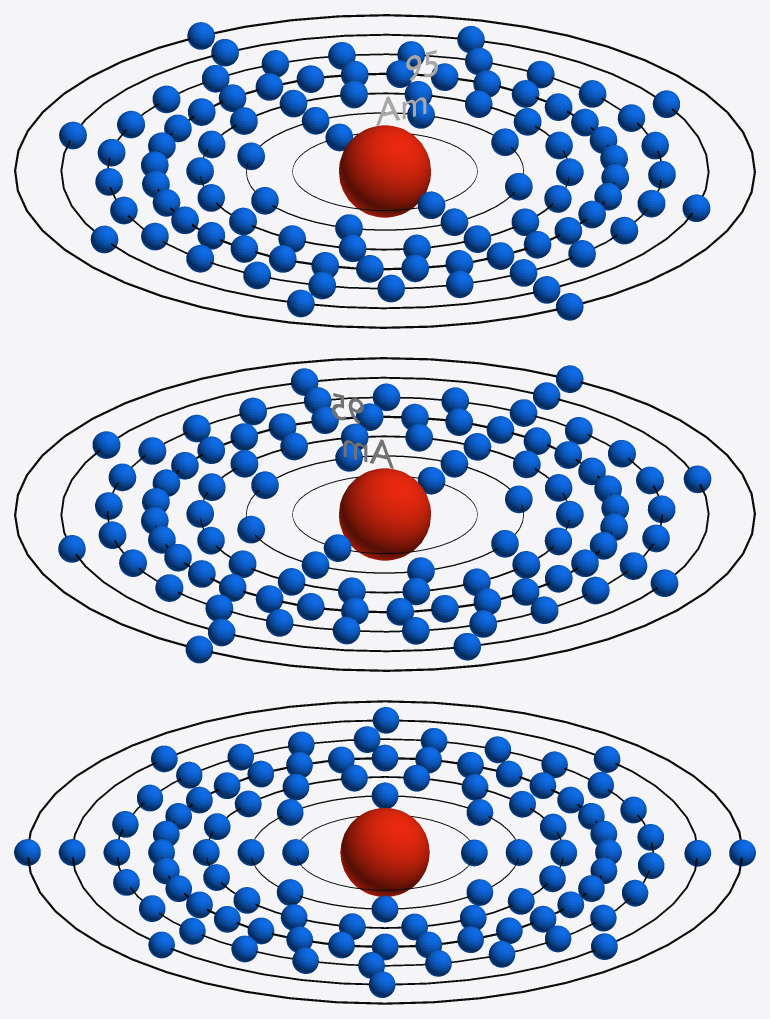
3 views of the same model, one above another, from view 1: azimuth 30°, elevation 25°; view 2: azimuth 150°, elevation 25°; view 3: azimuth 270°, elevation 25° (orthographic). The views are drawn at different scales.
Parts seen in each view (by area): view 1: Am4, Am5, Am3, Proton, Am6, Am2, n7, n6, n5, Am7, Am1, n3 (+2 smaller); view 2: Am4, Am5, Am3, Proton, Am6, Am2, n7, n6, n5, Am7, Am1, n3 (+2 smaller); view 3: Am4, Am5, Am3, Proton, Am6, Am2, n7, n6, n5, Am1, Am7, n3 (+2 smaller).
Boxes of the visible parts, <box> form: Am4: <box>141,60,628,282</box>; Am5: <box>95,41,675,302</box>; Am3: <box>186,80,583,261</box>; Proton: <box>339,125,430,217</box>; Am6: <box>59,26,710,317</box>; Am2: <box>237,101,532,239</box>; n7: <box>14,14,755,328</box>; n6: <box>60,33,709,309</box>; n5: <box>107,53,661,289</box>; Am7: <box>187,22,583,320</box>; Am1: <box>325,123,445,218</box>; n3: <box>200,92,569,250</box>; Am4: <box>141,403,628,625</box>; Am5: <box>95,383,675,644</box>; Am3: <box>186,423,583,605</box>; Proton: <box>339,468,430,560</box>; Am6: <box>58,368,711,660</box>; Am2: <box>237,444,532,582</box>; n7: <box>14,357,755,671</box>; n6: <box>60,376,709,652</box>; n5: <box>106,396,662,632</box>; Am7: <box>185,365,583,663</box>; Am1: <box>323,467,445,561</box>; n3: <box>200,435,569,593</box>; Am4: <box>148,744,621,960</box>; Am5: <box>103,726,664,978</box>; Am3: <box>193,764,576,940</box>; Proton: <box>340,808,429,896</box>; Am6: <box>58,707,711,997</box>; Am2: <box>237,782,532,922</box>; n7: <box>27,700,742,1004</box>; n6: <box>72,719,697,985</box>; n5: <box>117,738,653,966</box>; Am1: <box>282,839,487,866</box>; Am7: <box>14,839,755,866</box>; n3: <box>206,776,563,928</box>.
Size of the model in its own units: 802 by 180 by 830.
